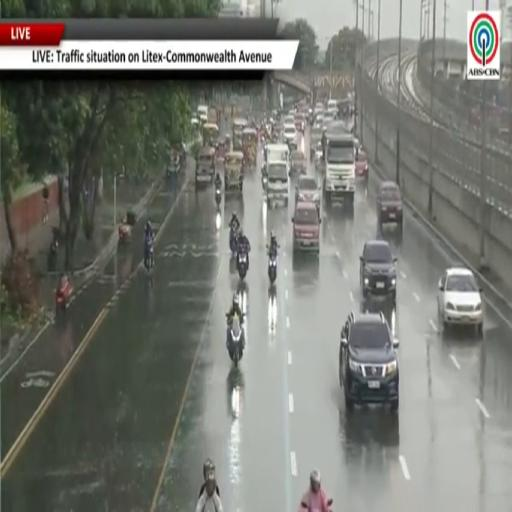car: (339, 312, 399, 412), (438, 267, 483, 334), (360, 239, 396, 302), (292, 202, 321, 253), (376, 182, 403, 231), (295, 175, 320, 210), (355, 150, 368, 181), (291, 150, 306, 173), (295, 112, 305, 133)
jeepney: (195, 148, 215, 186), (224, 152, 243, 191), (243, 128, 257, 168), (233, 119, 248, 150), (203, 123, 219, 148)
motorcycle: (227, 315, 244, 367), (56, 279, 73, 315), (237, 252, 248, 279), (229, 227, 238, 257), (268, 252, 276, 284), (145, 244, 154, 270), (215, 187, 221, 206), (300, 502, 312, 511), (262, 173, 267, 191)
truck: (322, 131, 355, 207)
